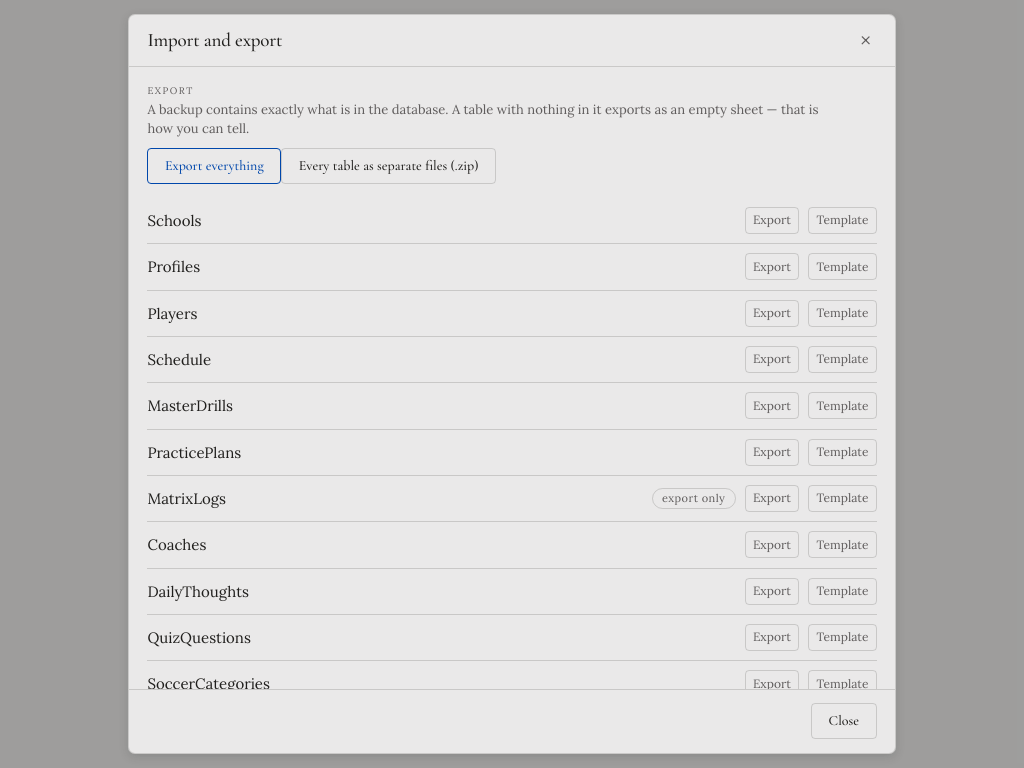
it: exporting › SAYS SO when the library has not loaded rather than throwing
Click the button "Export everything". click: (214, 166)
box: [147,148,281,184]
(page scrolled)
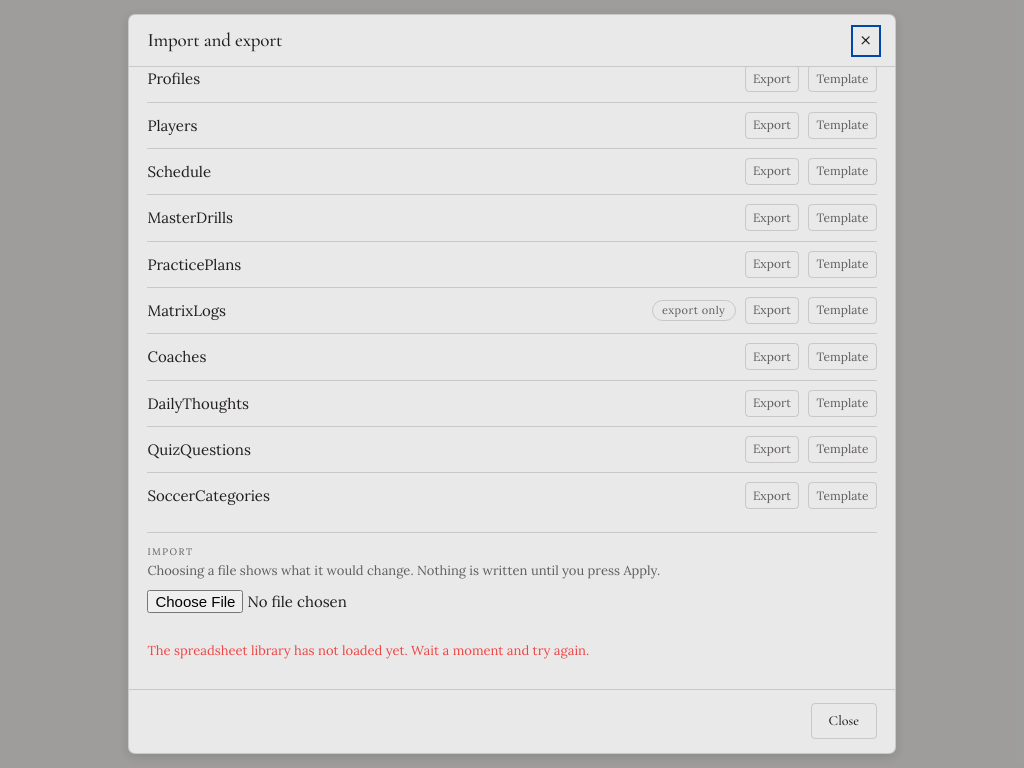
Check: the message "The spreadsheet library has not loaded yet. Wait a moment and try again." is shown, box [147,642,589,659]
